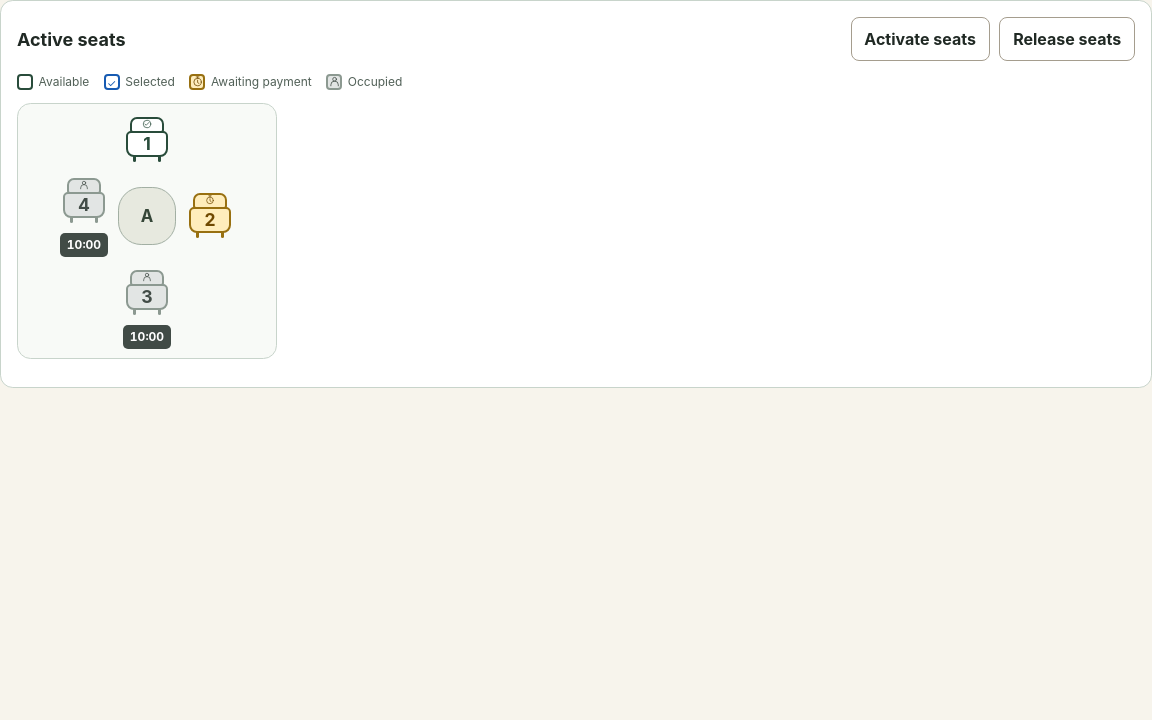
Scenario: omits current-order legend and highlighting only on Active seats while retaining selection indicators
Later steps or results of the test are not shown.
Expected: the list named "Seat status legend" shows "Selected", left=125, top=74, right=175, bottom=89
Click the button "Release seats": [1067, 39] box left=999, top=17, right=1135, bottom=61
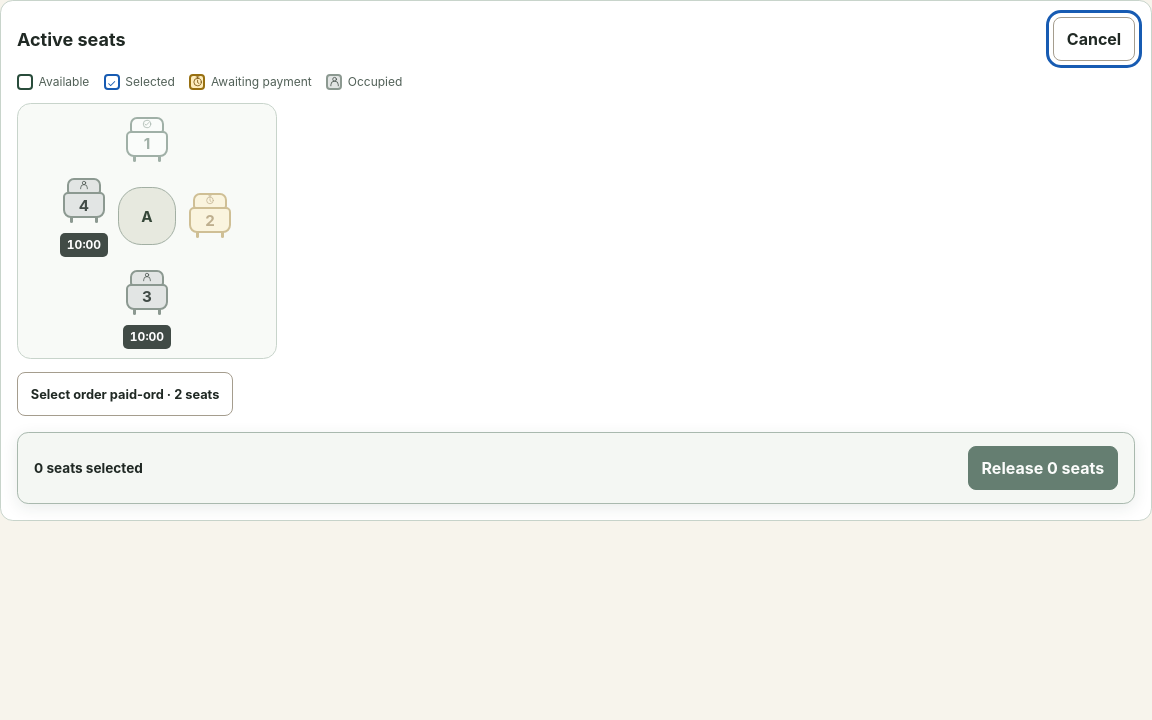
Click the button named "Table A · Seat 3": [147, 293] box left=121, top=267, right=173, bottom=319
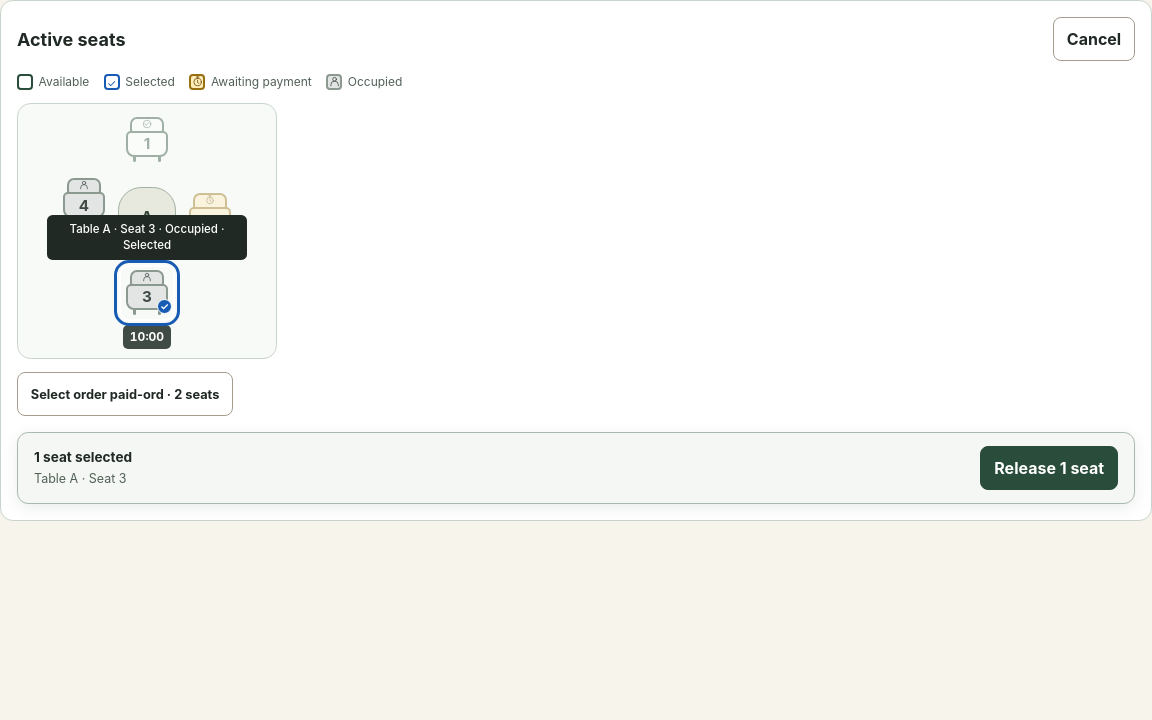
Expected: the button "Table A · Seat 3" shows "✓", left=121, top=267, right=173, bottom=319
